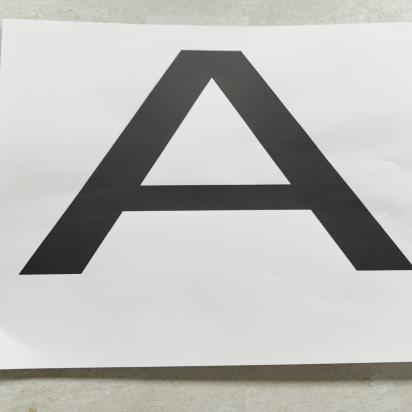seat: (0, 15, 412, 318)
